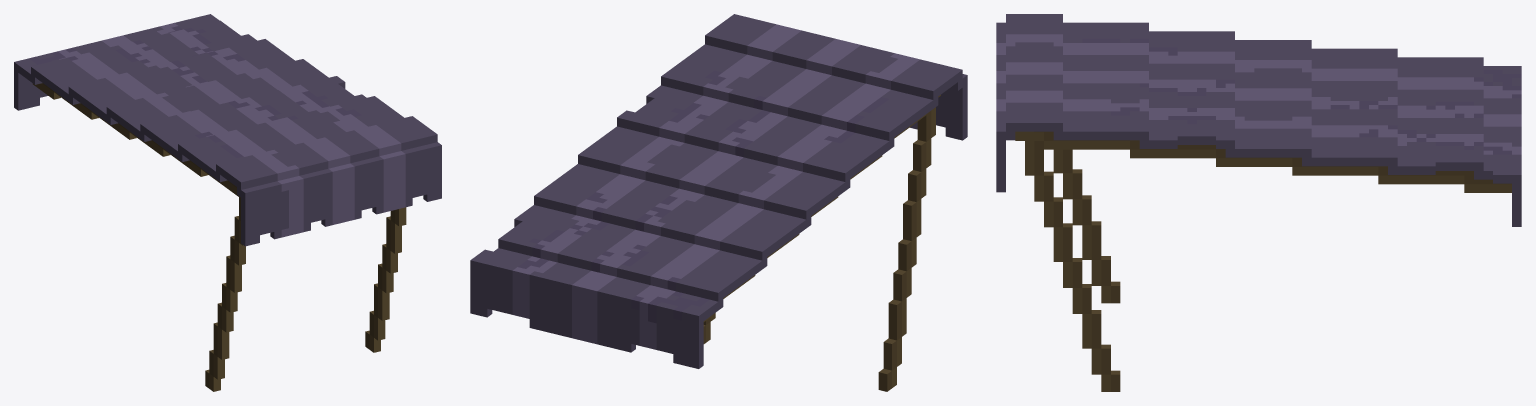
Rendered from Boat_Booth-6-Boat_Roof_Shade.obj.
3 views of the same model, side by side, from view 1: azimuth 30°, elevation 25°; view 2: azimuth 150°, elevation 25°; view 3: azimuth 270°, elevation 25° (orthographic). The views are drawn at different scales.
Visible parts, largest first — view 1: Boat_Roof_Shade; view 2: Boat_Roof_Shade; view 3: Boat_Roof_Shade.
Part boxes in pixels (x1,y1,x2,y2): Boat_Roof_Shade: (14,14,441,391); Boat_Roof_Shade: (470,14,967,391); Boat_Roof_Shade: (996,14,1521,391).
Bounding box in the file's own units: 0.54 × 0.64 × 1.1.
1 material, 1 textured.
